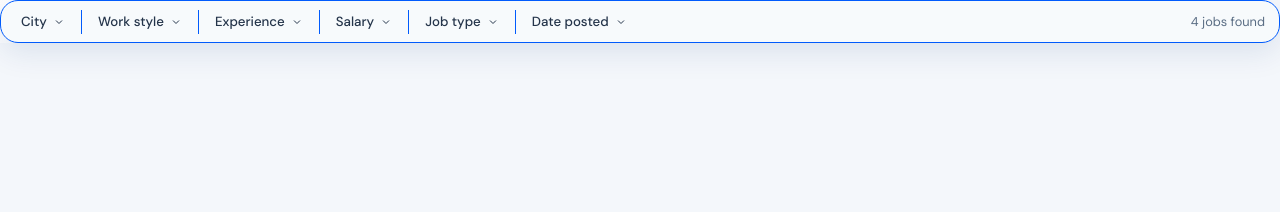
Scenario: FilterBar › applies and clears a work-style filter
Click the button "Work style" at (140, 22), box 88,7 -> 192,36
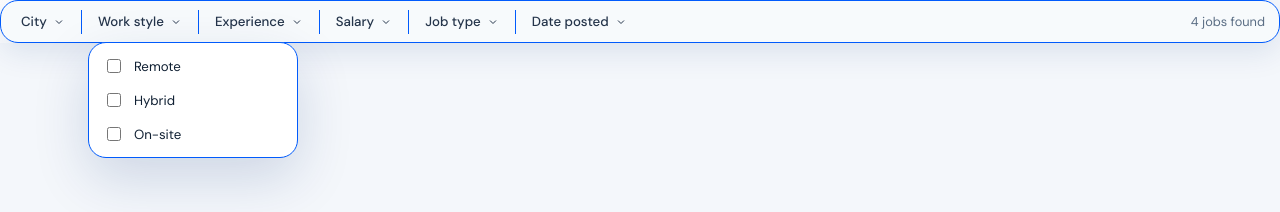
Click the checkbox labelled "Remote" at (114, 66), box 107,59 -> 121,73
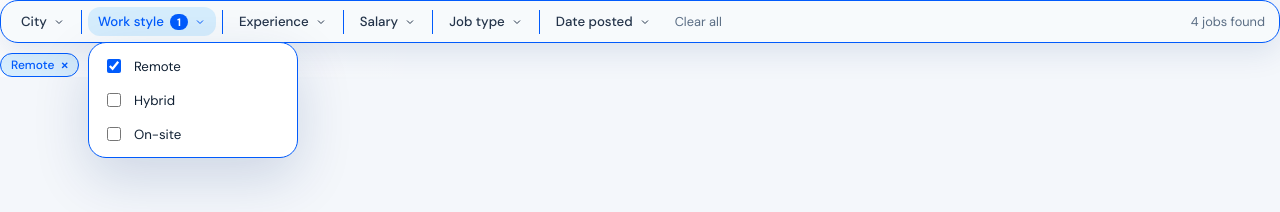
Expected: the text "Clear all" is shown
Click the button "Clear all" at (698, 22), box 665,7 -> 732,36
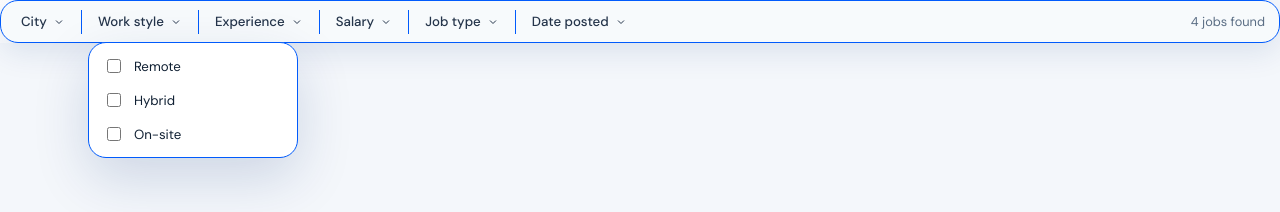
Expected: the text "Clear all" is gone
